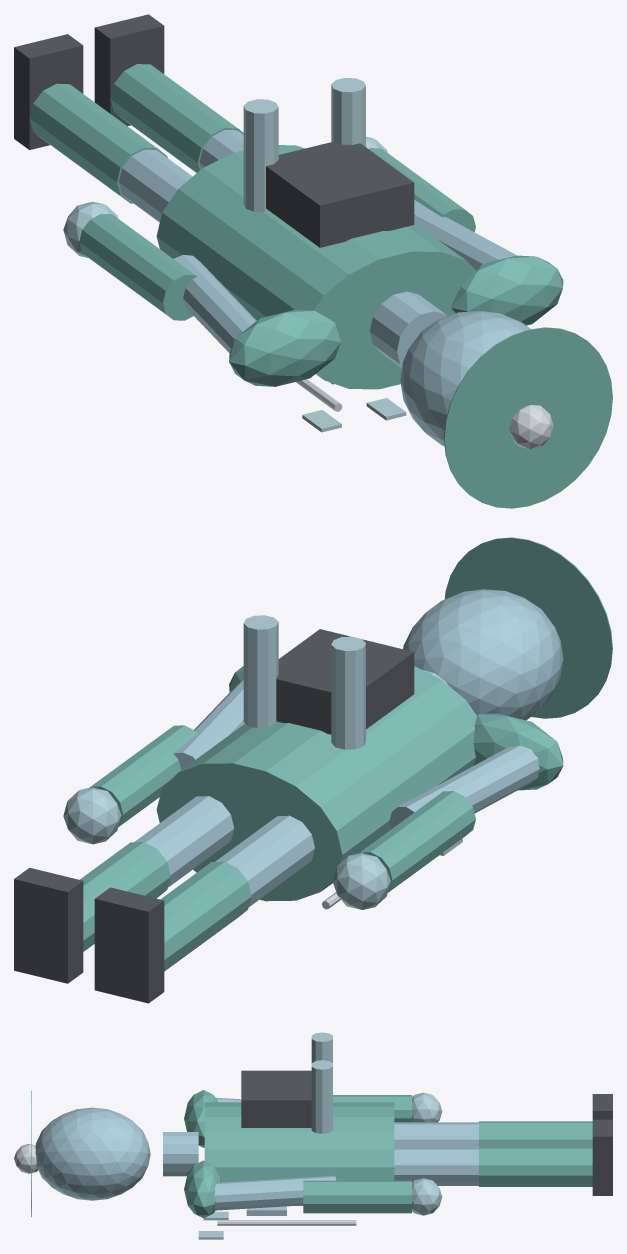
File: SWN-033_sera_halewright.glb
3 renders of one model, top to bottom at view 1: azimuth 30°, elevation 25°; view 2: azimuth 150°, elevation 25°; view 3: azimuth 270°, elevation 25°, orthographic. The views are drawn at different scales.
Parts seen in each view (by area): view 1: body_spine, rank_halo_ring, back_thruster_pack, head, greave_-1, greave_1, shoulder_plate_-1, forearm_gauntlet_-1, shoulder_plate_1, boot_-1, boot_1, upper_arm_-1 (+9 smaller); view 2: body_spine, head, rank_halo_ring, back_thruster_pack, boot_-1, boot_1, greave_-1, forearm_gauntlet_-1, thigh_1, thigh_-1, upper_arm_-1, forearm_gauntlet_1 (+7 smaller); view 3: body_spine, head, greave_1, back_thruster_pack, forearm_gauntlet_1, thigh_1, greave_-1, upper_arm_1, thigh_-1, boot_1, aether_thruster_1, shoulder_plate_1 (+10 smaller).
Part boxes in pixels (x1,y1,x2,y2): body_spine: (156, 145, 476, 389); rank_halo_ring: (444, 327, 612, 508); back_thruster_pack: (266, 141, 414, 247); head: (400, 311, 530, 446); greave_-1: (29, 83, 167, 203); greave_1: (110, 64, 243, 172); shoulder_plate_-1: (229, 309, 341, 386); forearm_gauntlet_-1: (79, 213, 196, 320); shoulder_plate_1: (451, 255, 563, 325); boot_-1: (14, 34, 83, 149); boot_1: (94, 14, 164, 126); upper_arm_-1: (174, 254, 256, 353); body_spine: (156, 666, 476, 901); head: (403, 589, 563, 720); rank_halo_ring: (444, 537, 612, 718); back_thruster_pack: (276, 629, 414, 734); boot_-1: (94, 887, 164, 1003); boot_1: (14, 867, 83, 983); greave_-1: (160, 861, 251, 971); forearm_gauntlet_-1: (359, 791, 475, 892); thigh_1: (134, 796, 234, 887); thigh_-1: (215, 815, 314, 906); upper_arm_-1: (389, 745, 539, 828); forearm_gauntlet_1: (90, 725, 196, 826); body_spine: (204, 1102, 394, 1205); head: (35, 1107, 150, 1200); greave_1: (479, 1147, 592, 1186); back_thruster_pack: (241, 1070, 311, 1127); forearm_gauntlet_1: (303, 1180, 411, 1213); thigh_1: (394, 1148, 478, 1185); greave_-1: (479, 1121, 592, 1146); upper_arm_1: (214, 1175, 336, 1210); thigh_-1: (394, 1122, 478, 1147); boot_1: (592, 1119, 612, 1195); aether_thruster_1: (311, 1060, 332, 1133); shoulder_plate_1: (184, 1160, 221, 1218).
Size of the model in its own units: 0.9932 by 0.725 by 2.37.
